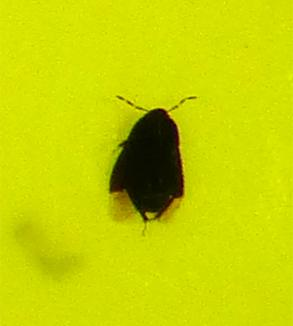Coleoptera: (100, 100, 193, 226)
